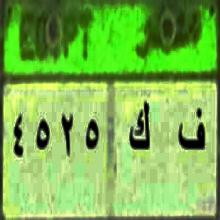2: (58, 106, 75, 166)
4: (12, 110, 26, 164)
5: (34, 113, 54, 160), (85, 109, 100, 159)
faa: (177, 105, 208, 158)
kaaf: (128, 95, 152, 159)
